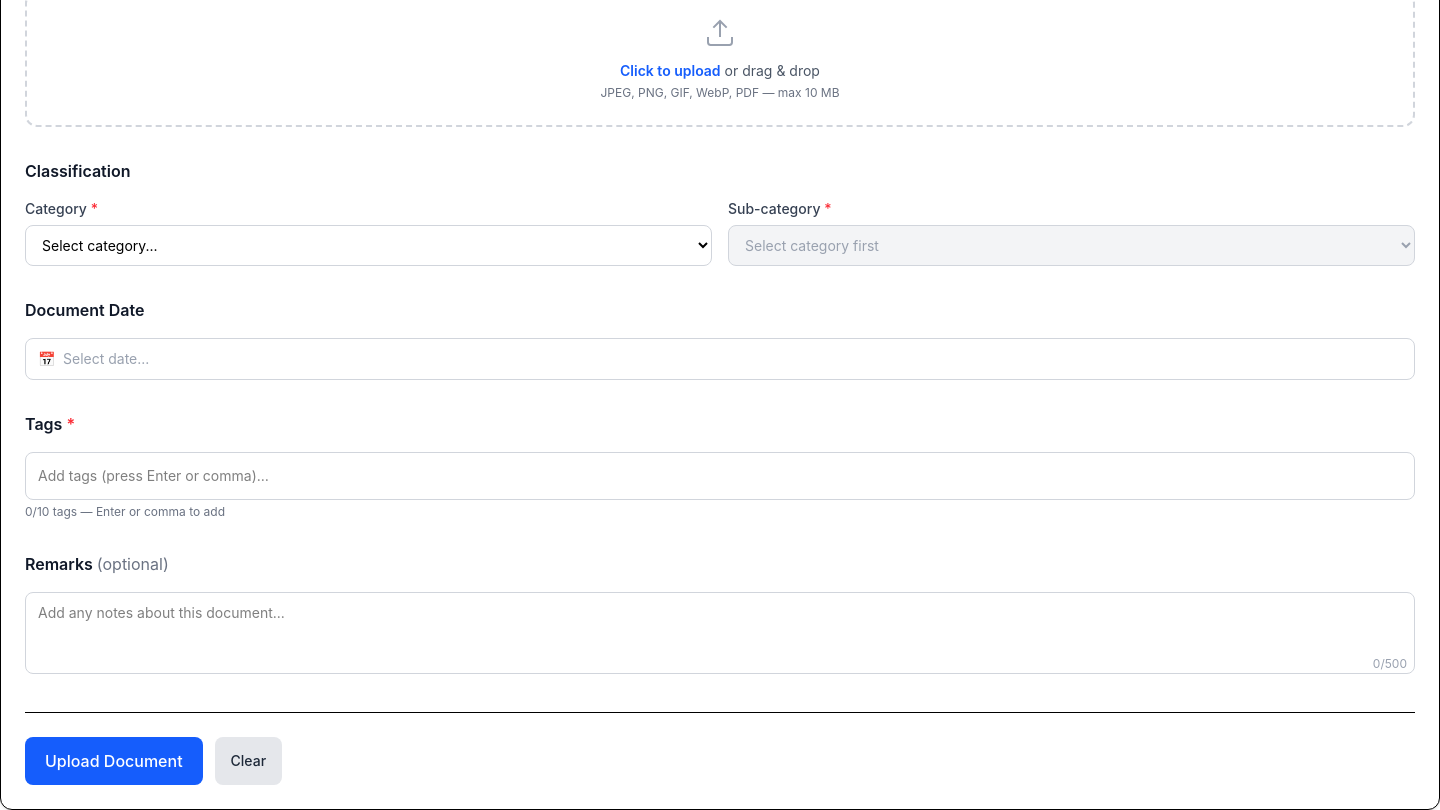
Test: FileUploadForm › shows validation errors when submitting an empty form
(page scrolled)
Click the button "Upload Document" at [114, 761], box [25,737,203,785]
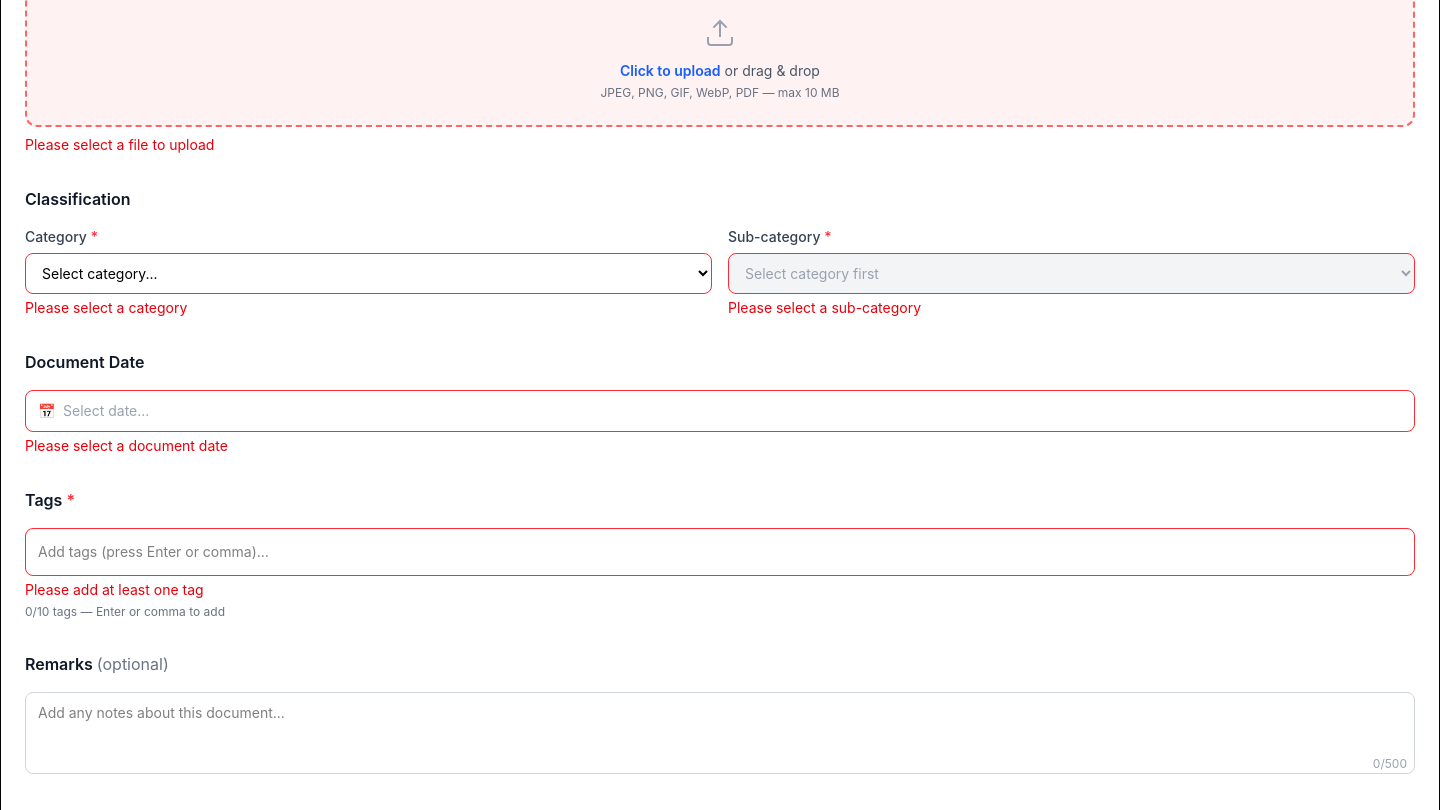
Now the text "Please select a file to upload" is shown, box [25,136,214,153]
Now the text "Please select a category" is shown, box [25,299,187,316]
Now the text "Please select a sub-category" is shown, box [728,299,921,316]
